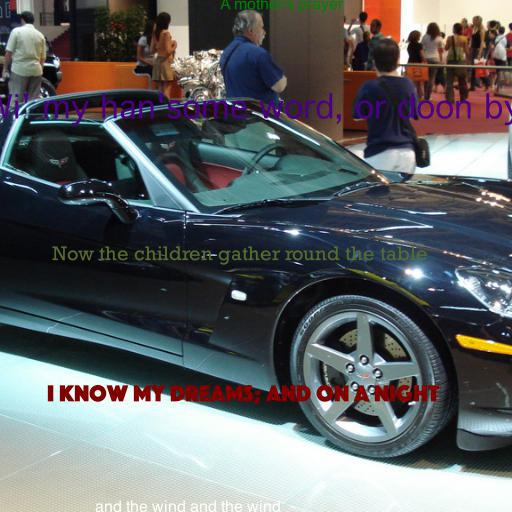Apple Chancery: (219, 0, 343, 13)
Geneva: (0, 93, 512, 126)
Phosphate: (47, 384, 439, 404)
Rockwell: (52, 246, 428, 265)
SF Pro: (95, 500, 281, 512)
